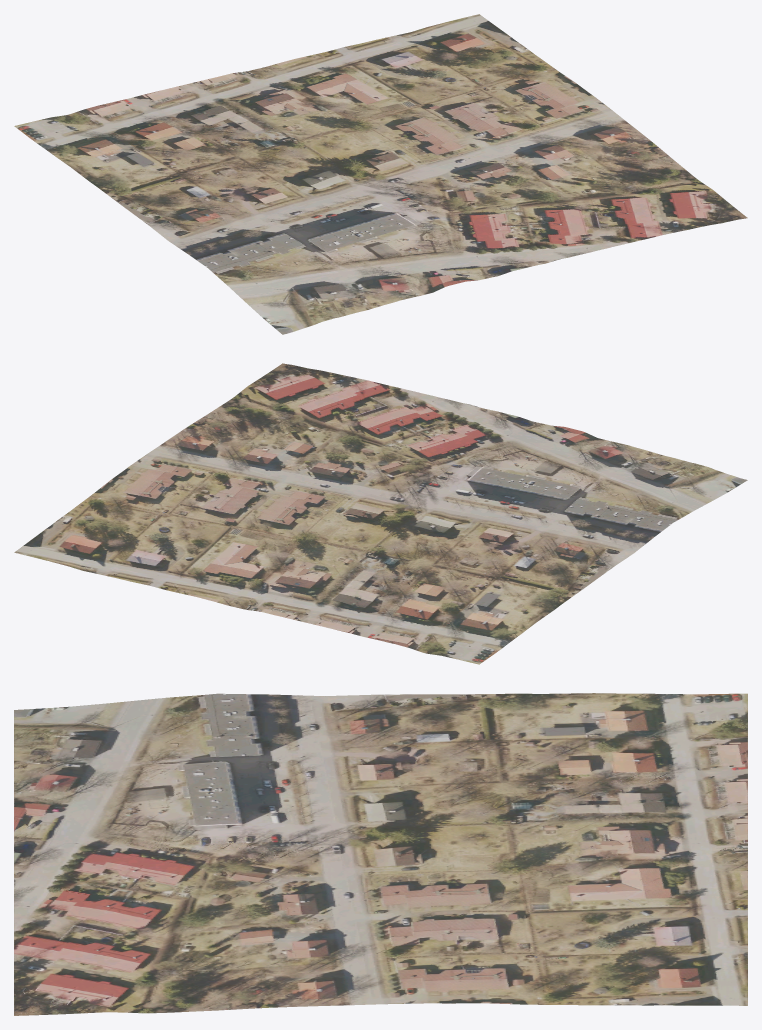
The model's file is CM_Terrain_24491482_6820613.fbx.
3 renders of one model, top to bottom at view 1: azimuth 30°, elevation 25°; view 2: azimuth 150°, elevation 25°; view 3: azimuth 270°, elevation 25°, orthographic. The views are drawn at different scales.
Parts seen in each view (by area): view 1: CM_Terrain_24491482_6820613_LOD0; view 2: CM_Terrain_24491482_6820613_LOD0; view 3: CM_Terrain_24491482_6820613_LOD0.
Boxes of the visible parts, x1=… form: CM_Terrain_24491482_6820613_LOD0: x1=14, y1=14, x2=747, y2=334; CM_Terrain_24491482_6820613_LOD0: x1=14, y1=363, x2=747, y2=664; CM_Terrain_24491482_6820613_LOD0: x1=14, y1=693, x2=747, y2=1015.
Size of what is drawn, in the model's own units: 205 by 5.72 by 205.
